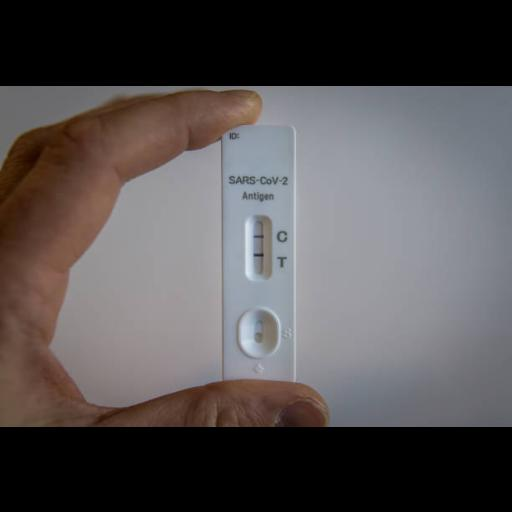Pos: (222, 124, 294, 380)
